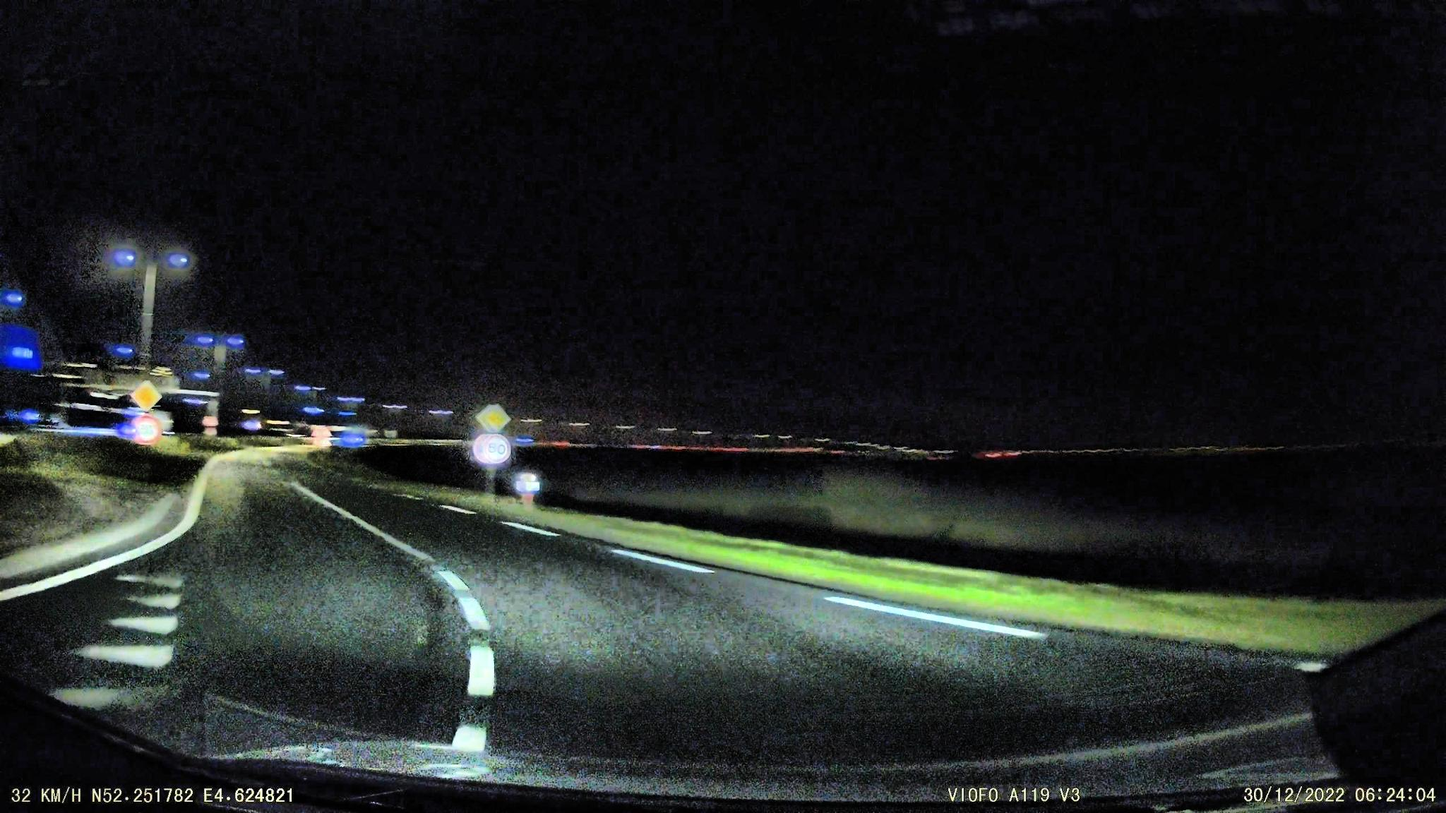Roads: (0, 453, 1446, 813)
